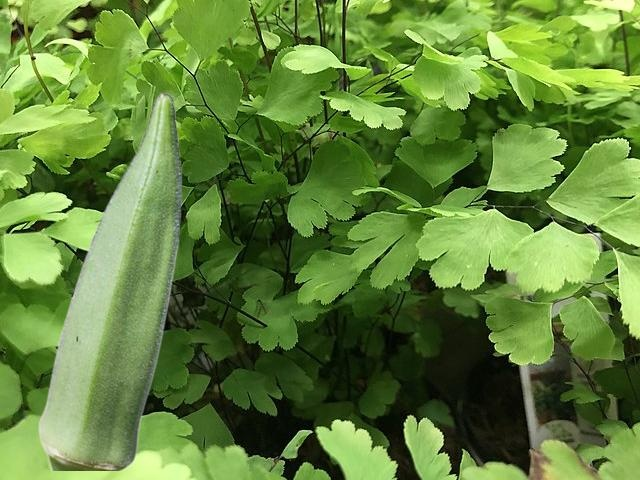okra: (38, 92, 181, 469)
